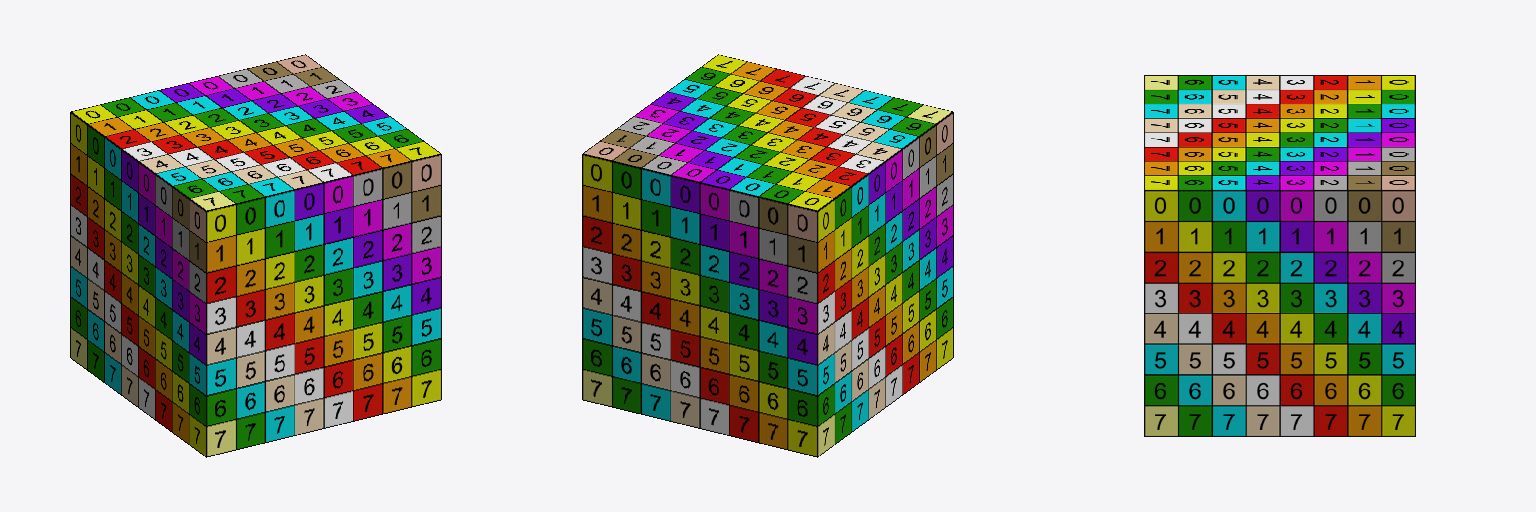
The picture shows the model from 3 angles: view 1: azimuth 30°, elevation 25°; view 2: azimuth 150°, elevation 25°; view 3: azimuth 270°, elevation 25°; orthographic projection.
Visible parts, largest first — view 1: pCube1; view 2: pCube1; view 3: pCube1.
Boxes of the visible parts, <box> form: pCube1: <box>70,54,441,457</box>; pCube1: <box>582,54,953,457</box>; pCube1: <box>1144,75,1415,436</box>.
Size of the model in its own units: 2 by 2 by 2.
Materials: 1 (1 with a texture image).